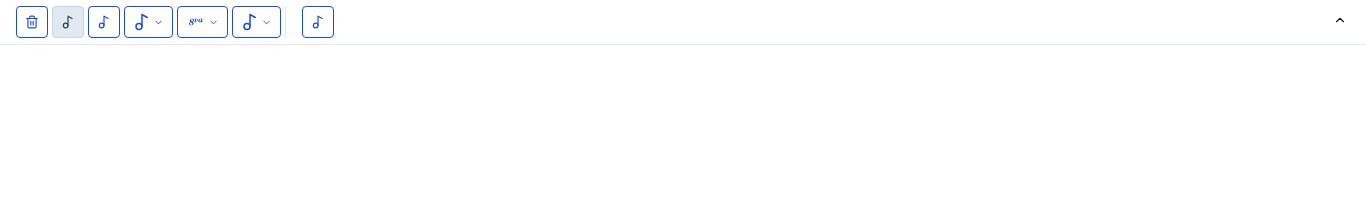
ToolStrip › menus with sections and glyphs › shows a heading above each section, and a glyph beside the items that have one
This screenshot has width=1366, height=221.
Click the button with test id "dropdown-lines": x=202, y=22 177,6 -> 228,38
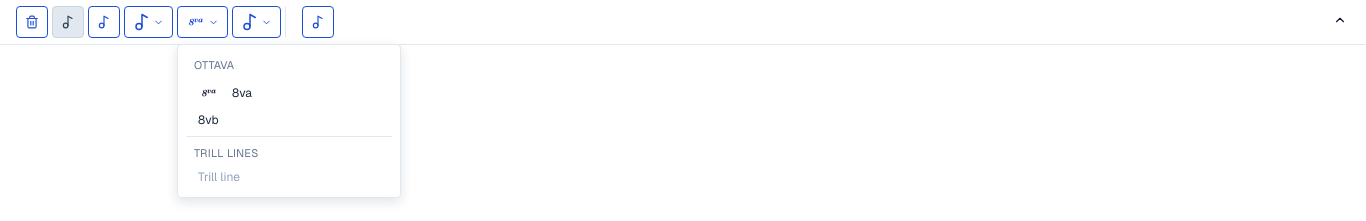
Now the text "Ottava" is shown, box 194,58 -> 234,72
Now the text "Trill lines" is shown, box 194,146 -> 258,160
Now the number of menu items is 3, box 198,82 -> 252,104; 198,112 -> 219,128; 198,169 -> 240,185
